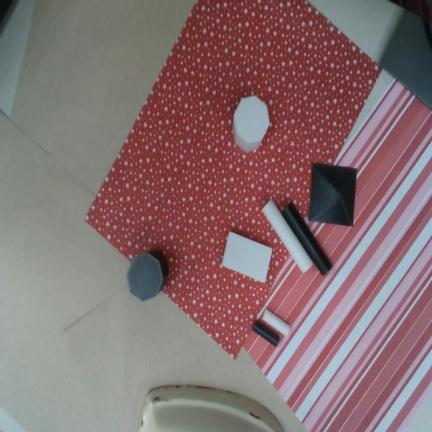Cilindro: (281, 201, 333, 276), (263, 200, 314, 274), (262, 308, 290, 337), (252, 320, 279, 347)
Paralelepipedo: (221, 231, 273, 282)
Piramide: (308, 162, 357, 226)
Prisma_hexagonal: (126, 250, 169, 302), (232, 95, 270, 152)
